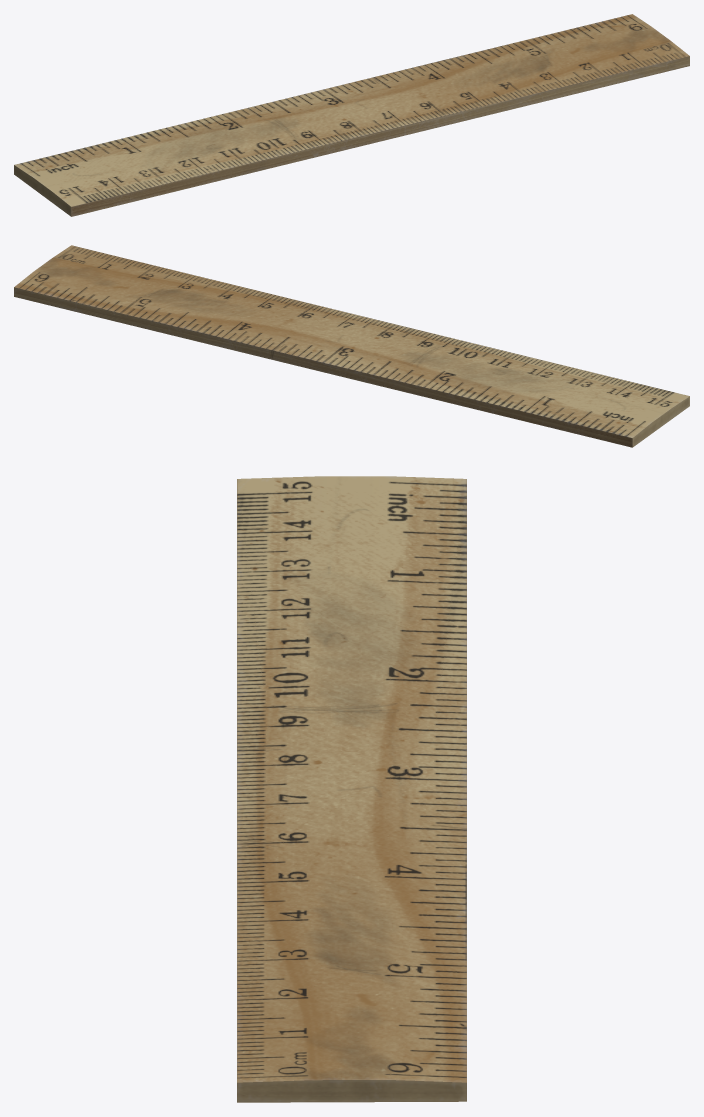
Rendered from Ruler.fbx.
3 views of the same model, one above another, from view 1: azimuth 30°, elevation 25°; view 2: azimuth 150°, elevation 25°; view 3: azimuth 270°, elevation 25° (orthographic). The views are drawn at different scales.
Visible parts, largest first — view 1: Ruler; view 2: Ruler; view 3: Ruler.
Boxes of the visible parts, bbox=[...] form: Ruler: bbox=[14, 14, 689, 216]; Ruler: bbox=[14, 245, 689, 447]; Ruler: bbox=[237, 476, 466, 1102].
Bounding box in the file's own units: 19.95 × 0.3502 × 3.21.
